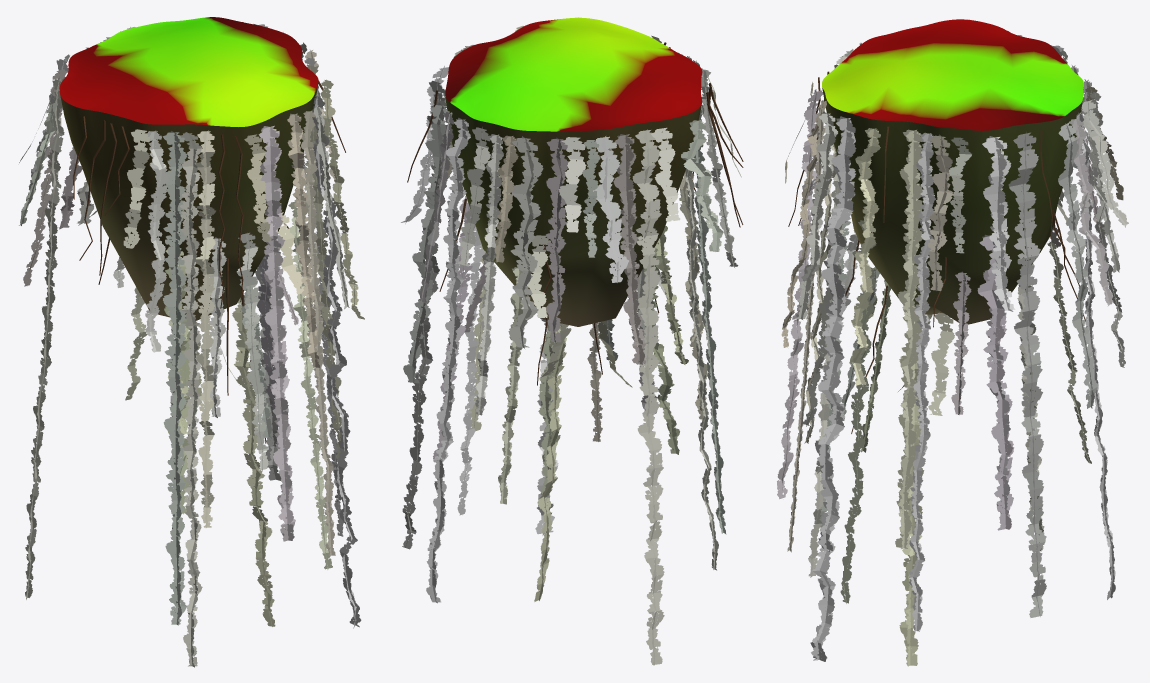
File: SM_H01_Floater09.fbx
3 renders of one model, left to right at view 1: azimuth 30°, elevation 25°; view 2: azimuth 150°, elevation 25°; view 3: azimuth 270°, elevation 25°, orthographic.
Parts seen in each view (by area): view 1: SM_H01_Floater09_Ivy, SM_H01_Floater09; view 2: SM_H01_Floater09_Ivy, SM_H01_Floater09; view 3: SM_H01_Floater09_Ivy, SM_H01_Floater09.
Part boxes in pixels (x1,y1,x2,y2): SM_H01_Floater09_Ivy: (19,22,364,667); SM_H01_Floater09: (59,17,318,320); SM_H01_Floater09_Ivy: (401,26,743,665); SM_H01_Floater09: (445,17,702,326); SM_H01_Floater09_Ivy: (777,19,1128,666); SM_H01_Floater09: (822,19,1083,324).
Size of the model in its own units: 17.34 by 30.12 by 17.3.
